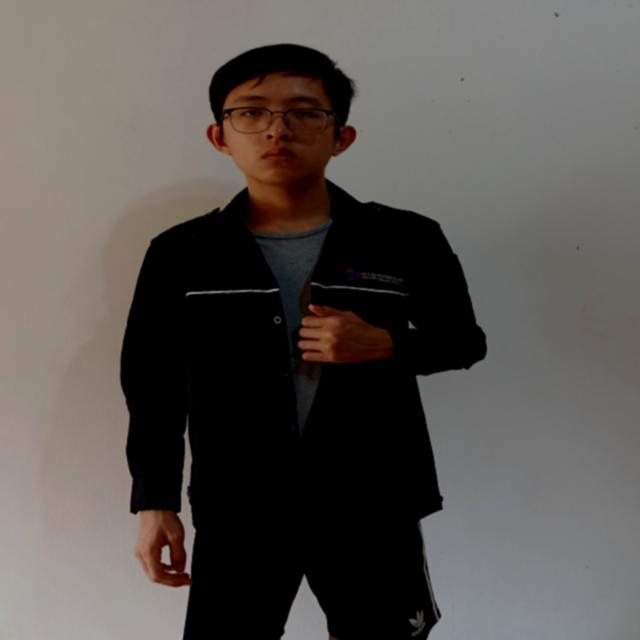person_with_labcoat: (121, 44, 486, 640)
